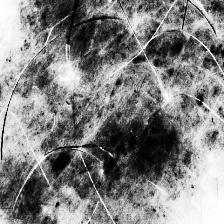Benign Marking or Mole: (193, 36, 224, 123), (48, 146, 72, 178), (0, 76, 8, 106)
